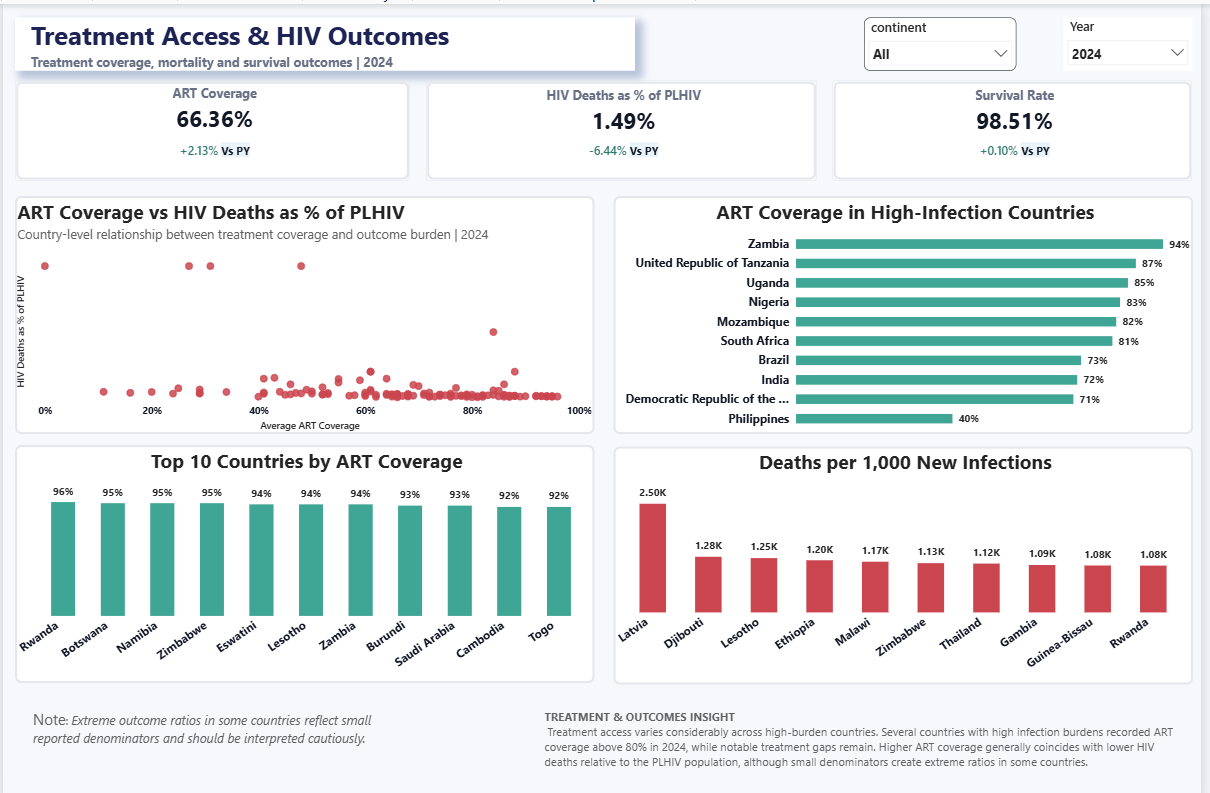

The dashboard page shown, as its layout file describes it:
{"tool":"powerbi","page":{"name":"03 Treatment & Outcomes","canvas":[1500,1000],"ordinal":2},"visuals":[{"type":"slicer","fields":{"Values":["DimDate.Date.Variation.Date Hierarchy.Year"]},"box":[1326.7,16.7,161.1,66.7],"z":0},{"type":"slicer","fields":{"Values":["DimLocation.Continent"]},"box":[1078.3,16.7,190.7,66.7],"z":1000},{"type":"barChart","title":"ART Coverage in High-Infection Countries","fields":{"Category":["DimLocation.country"],"Y":["MeasureTable_.Average ART Coverage"]},"box":[764.1,240.3,725,298],"z":2000},{"type":"clusteredColumnChart","title":"Deaths per 1,000 New Infections","fields":{"Category":["DimLocation.Country"],"Y":["MeasureTable_.Deaths per 1000 New Infections"]},"box":[764.1,553.8,725,298],"z":3000},{"type":"textbox","title":"Treatment Access & HIV Outcomes","box":[15,16.7,775.9,66.7],"z":4000},{"type":"clusteredColumnChart","title":"Top 10 Countries by ART Coverage","fields":{"Category":["DimLocation.Country"],"Y":["MeasureTable_.Average ART Coverage"]},"box":[15,552,725,298],"z":5000},{"type":"cardVisual","fields":{"Data":["MeasureTable_.Average ART Coverage"]},"box":[15,96.2,494.3,125],"z":6000},{"type":"cardVisual","fields":{"Data":["MeasureTable_.Survival Rate"]},"box":[1038.1,96.7,450.6,125],"z":7000},{"type":"scatterChart","title":"ART Coverage vs HIV Deaths as % of PLHIV","fields":{"Category":["DimLocation.country"],"X":["MeasureTable_.Average ART Coverage"],"Y":["MeasureTable_.Mortality Rate"]},"box":[15,240.3,725,298],"z":8000},{"type":"cardVisual","fields":{"Data":["MeasureTable_.Mortality Rate"]},"box":[530,96.7,490,125],"z":9000},{"type":"textbox","box":[37.7,883,432.1,81.1],"z":10000},{"type":"textbox","box":[677.7,882.4,801.6,105.1],"z":11000}]}

Visuals, with their boxes in screenshot pixels (x1, y1, x2, y2), scaled from the page's 1500x1000 canvas onto the 1210x793 screenshot:
slicer - DimDate.Date.Variation.Date Hierarchy.Year: box=[1070, 13, 1200, 66]
slicer - DimLocation.Continent: box=[870, 13, 1024, 66]
"ART Coverage in High-Infection Countries" barChart: box=[616, 191, 1201, 427]
"Deaths per 1,000 New Infections" clusteredColumnChart: box=[616, 439, 1201, 675]
"Treatment Access & HIV Outcomes" textbox: box=[12, 13, 638, 66]
"Top 10 Countries by ART Coverage" clusteredColumnChart: box=[12, 438, 597, 674]
cardVisual - MeasureTable_.Average ART Coverage: box=[12, 76, 411, 175]
cardVisual - MeasureTable_.Survival Rate: box=[837, 77, 1201, 176]
"ART Coverage vs HIV Deaths as % of PLHIV" scatterChart: box=[12, 191, 597, 427]
cardVisual - MeasureTable_.Mortality Rate: box=[428, 77, 823, 176]
textbox: box=[30, 700, 379, 765]
textbox: box=[547, 700, 1193, 783]
